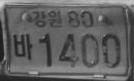0: (101, 33, 123, 68), (81, 32, 99, 67), (82, 10, 94, 27)
1: (37, 32, 55, 67)
4: (57, 33, 79, 66)
8: (66, 9, 80, 29)
강원_H: (32, 8, 63, 30)
바: (11, 33, 34, 59)
